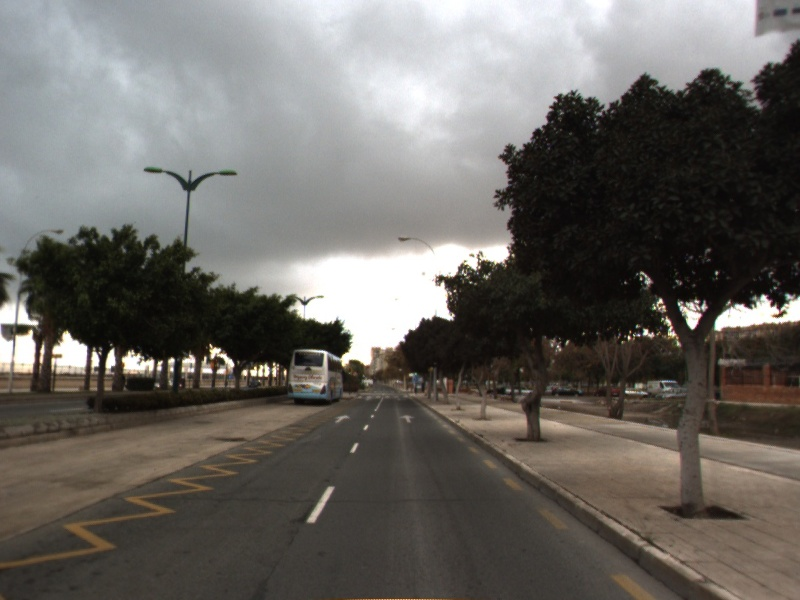STRAIGHT: (398, 412, 418, 424), (333, 413, 353, 425)
